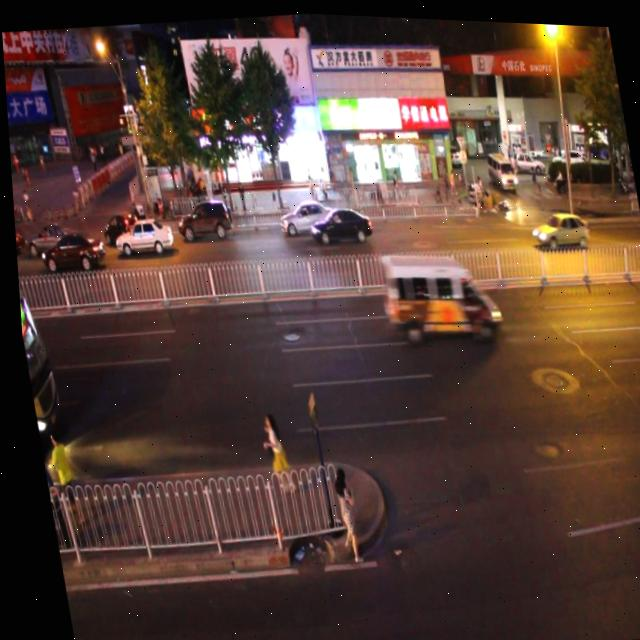car: (34, 224, 106, 277), (303, 198, 372, 246), (523, 200, 589, 249), (107, 212, 173, 260), (170, 192, 231, 242), (272, 190, 333, 238), (19, 215, 78, 261), (97, 200, 149, 251)
truck: (370, 235, 501, 345)
